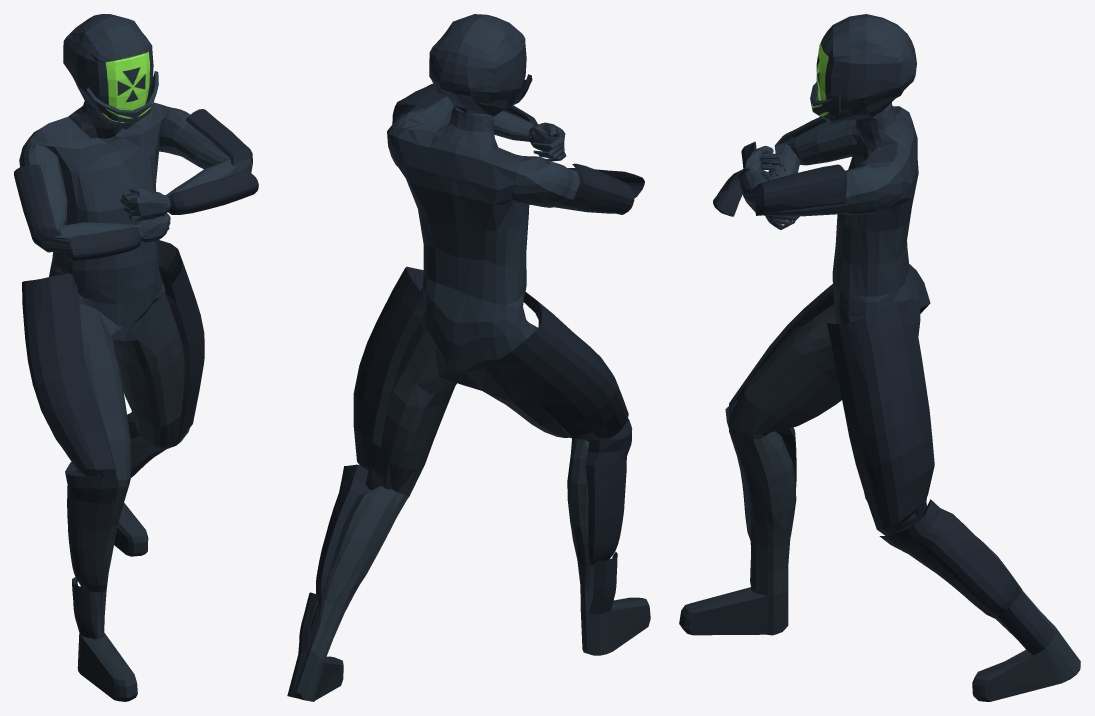
File: Bastion_WF_000003.obj
3 renders of one model, left to right at view 1: azimuth 30°, elevation 25°; view 2: azimuth 150°, elevation 25°; view 3: azimuth 270°, elevation 25°, orthographic. The views are drawn at different scales.
Parts seen in each view (by area): view 1: Cube.002; view 2: Cube.002; view 3: Cube.002.
Part boxes in pixels (x1,y1,x2,y2): Cube.002: (14,14,258,701); Cube.002: (287,14,650,701); Cube.002: (679,14,1080,701).
Bounding box in the file's own units: 1.34 × 3.62 × 2.03.
